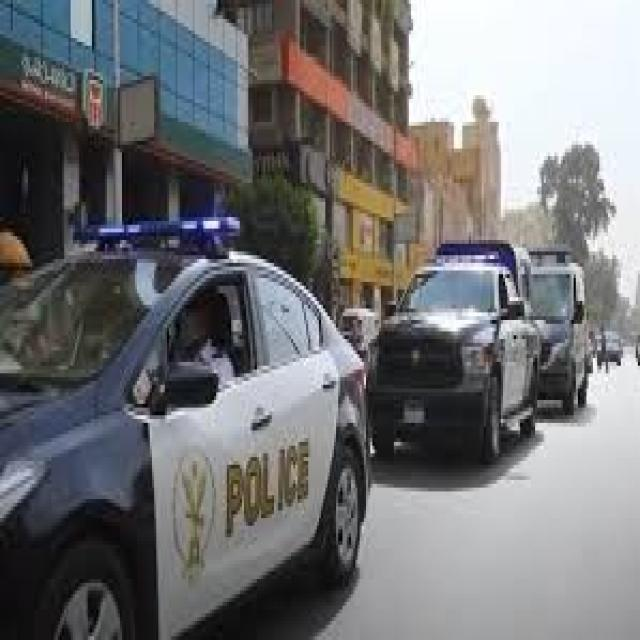fire_truck: (0, 202, 368, 602), (359, 234, 540, 474), (534, 240, 592, 421)
